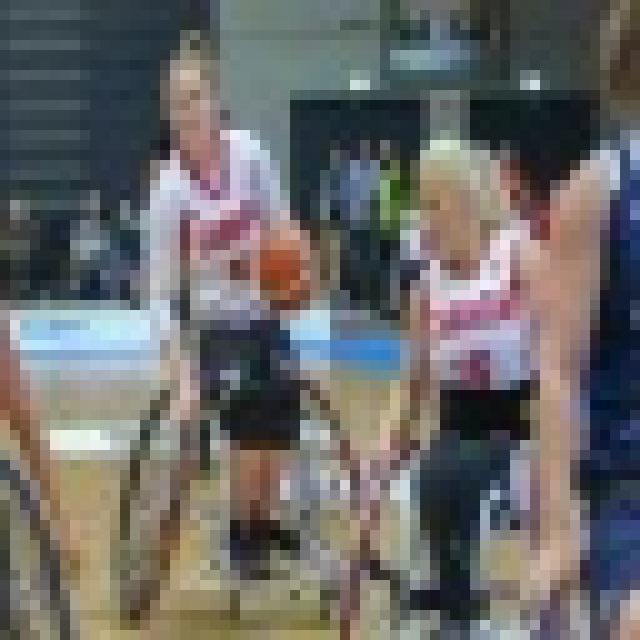wheelchairs: (319, 404, 640, 640), (116, 350, 360, 619), (3, 444, 77, 640)
